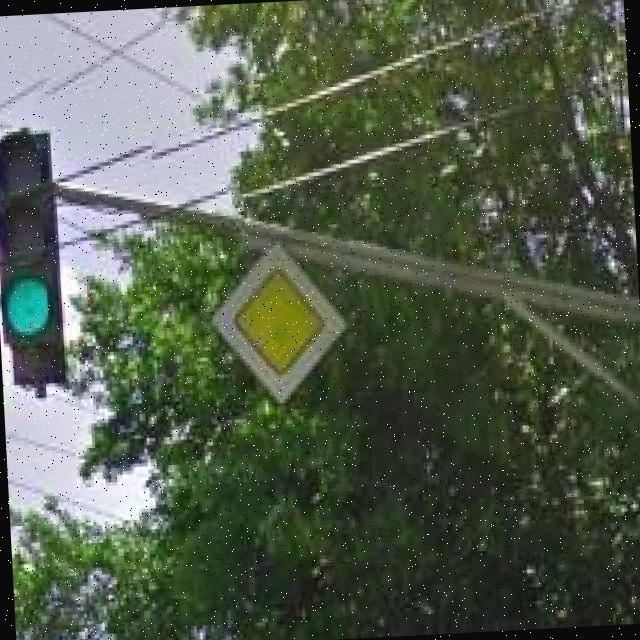Droga z pierwszenstwem: (202, 234, 354, 414)
